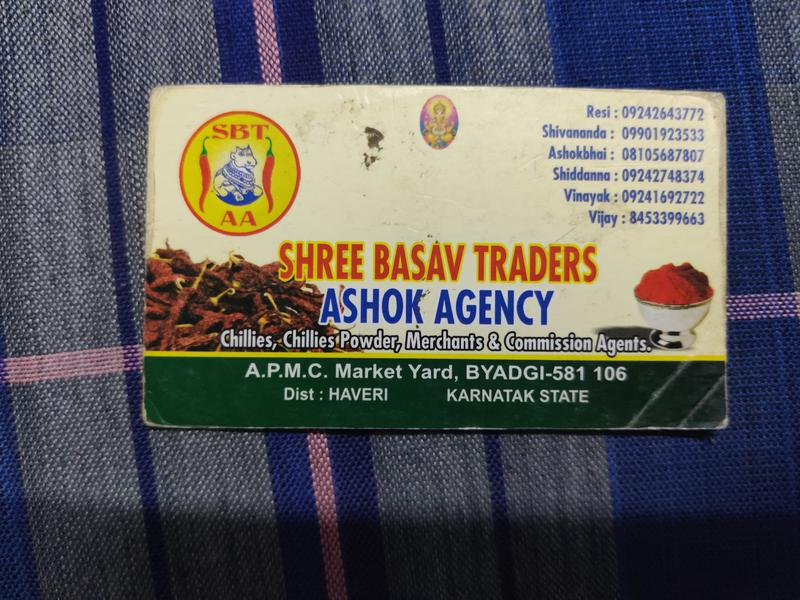card: (139, 81, 737, 440)
